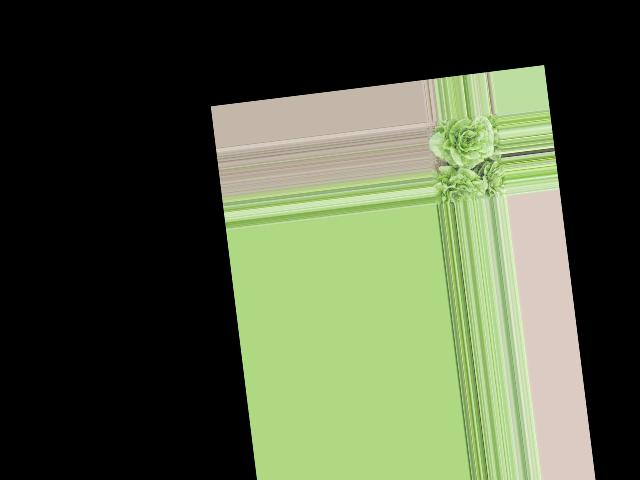lettuce: (433, 165, 489, 205)
